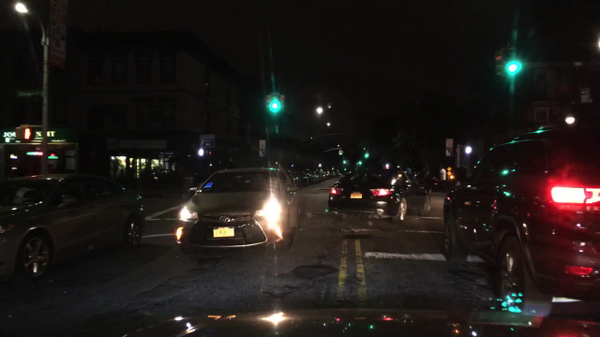car: (442, 124, 599, 330), (0, 174, 146, 295), (176, 162, 303, 254), (327, 162, 432, 224), (417, 169, 437, 191), (405, 168, 421, 185), (291, 172, 310, 186), (309, 171, 318, 184), (318, 172, 326, 180), (325, 172, 331, 179), (332, 170, 338, 176)
person: (439, 165, 446, 193)
traffic light: (506, 49, 521, 80), (15, 122, 35, 141), (494, 50, 505, 79), (270, 96, 281, 114), (194, 147, 208, 157), (264, 95, 269, 115), (282, 93, 286, 115), (462, 146, 472, 154), (365, 149, 370, 159), (339, 149, 342, 156)
traffic sign: (16, 89, 45, 98), (199, 135, 215, 148), (259, 141, 266, 158), (447, 171, 452, 177), (446, 168, 452, 172)
